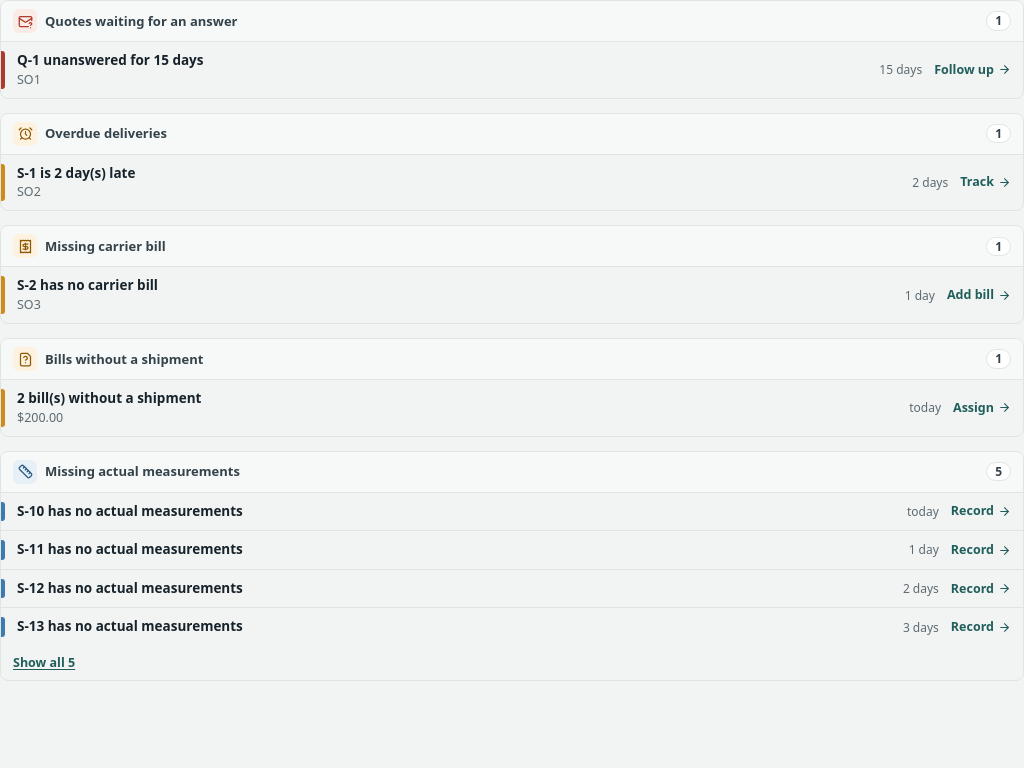
Scenario: Needs attention › groups by kind, most severe first, with one-click links to the right place
The width and height of the screenshot is (1024, 768).
Check: the text "S-14 has no actual measurements" is not shown
Click the button "Show all 5".
click(44, 663)  # box top-left (13, 654), bottom-right (75, 672)
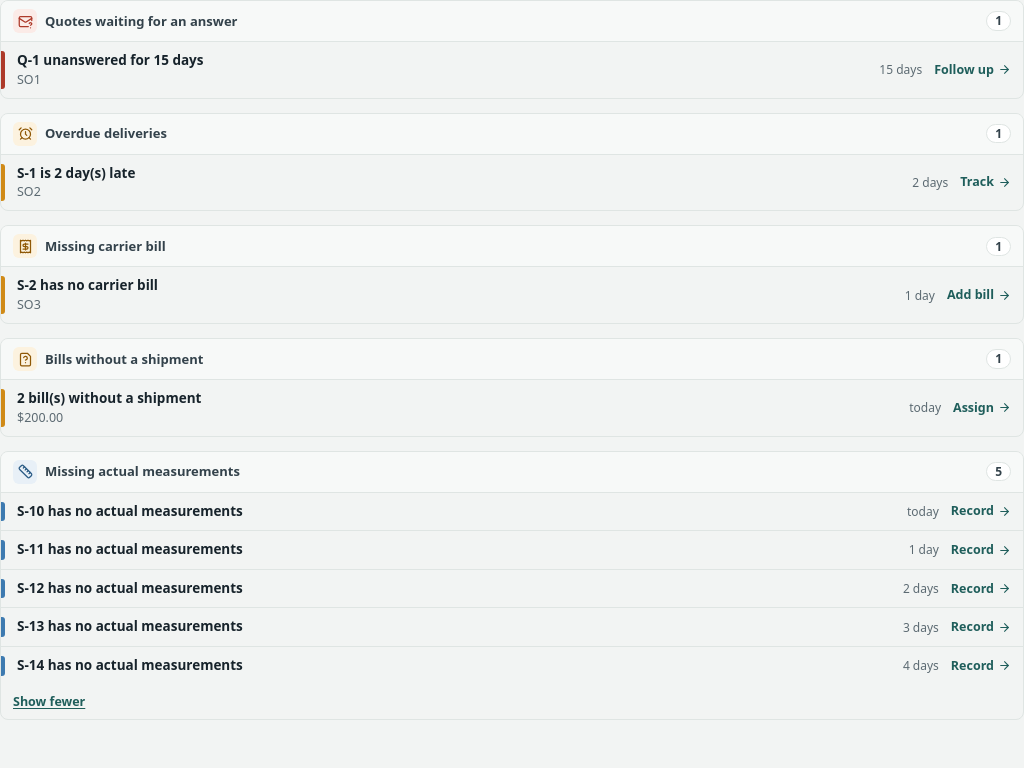
Check: the text "S-14 has no actual measurements" is shown, box top-left (17, 656), bottom-right (243, 674)
